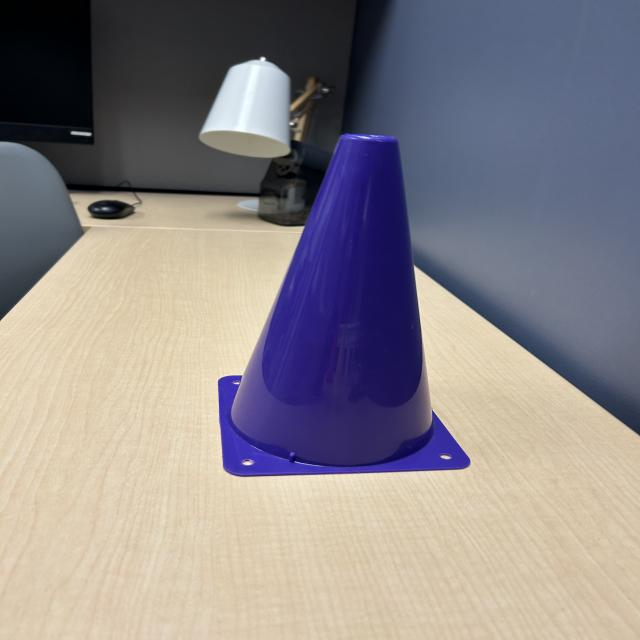purple cone: (210, 132, 478, 475)
